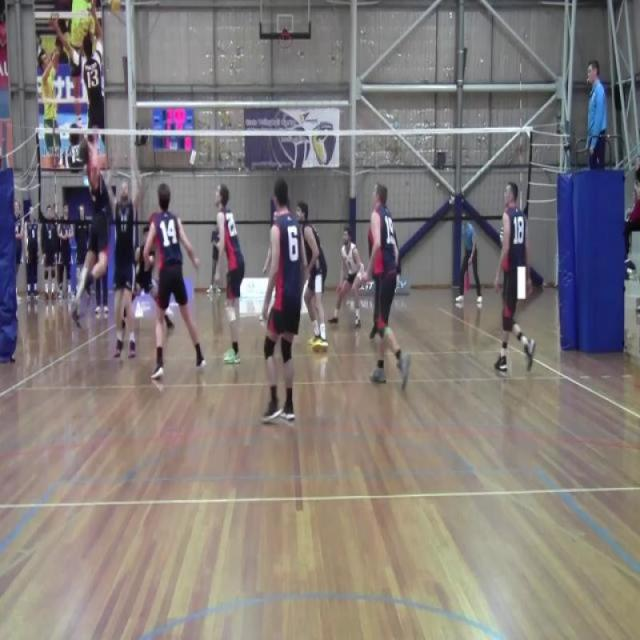volleyball: (108, 0, 123, 15), (216, 240, 220, 252)
